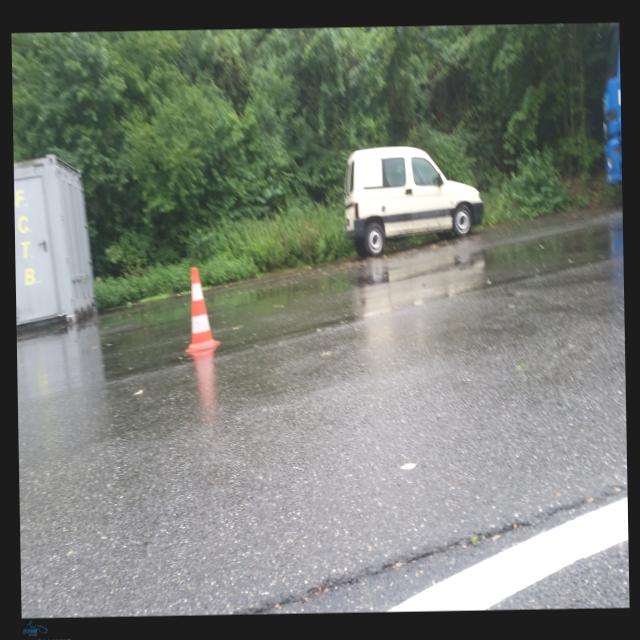large_orange_cone: (183, 266, 220, 352)
